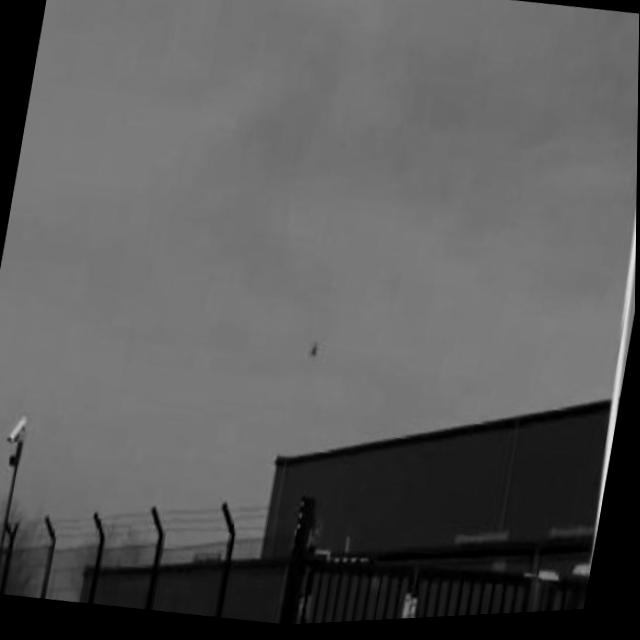helikopter: (305, 336, 330, 369)
